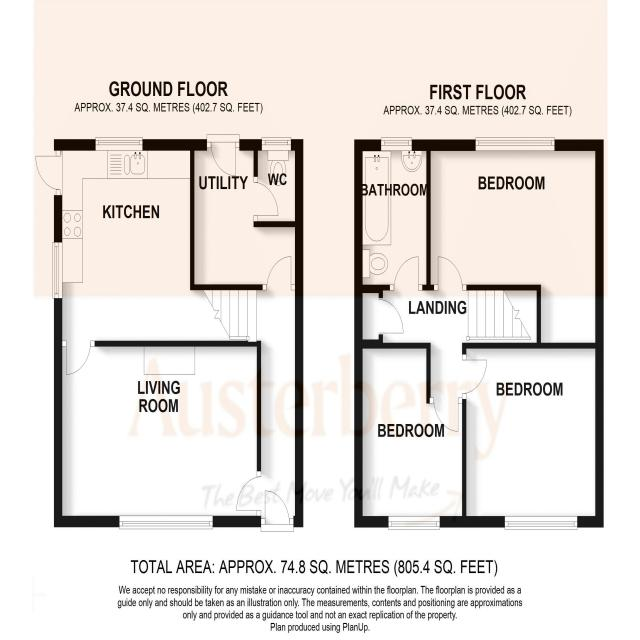DOOR: (260, 490, 294, 533), (206, 134, 240, 176), (35, 149, 63, 196), (253, 176, 279, 222), (433, 256, 467, 291), (389, 256, 423, 291), (261, 256, 296, 290), (462, 353, 487, 400), (236, 470, 261, 517), (429, 397, 462, 432), (62, 341, 95, 376)
ROOM: (34, 136, 261, 377), (54, 341, 261, 530), (426, 137, 604, 349), (462, 342, 604, 530), (354, 342, 467, 530)
WINDOW: (118, 514, 214, 531), (475, 137, 555, 152), (504, 515, 578, 531), (388, 515, 440, 530), (95, 137, 143, 151), (52, 241, 63, 299), (380, 137, 412, 152), (261, 137, 292, 151)
